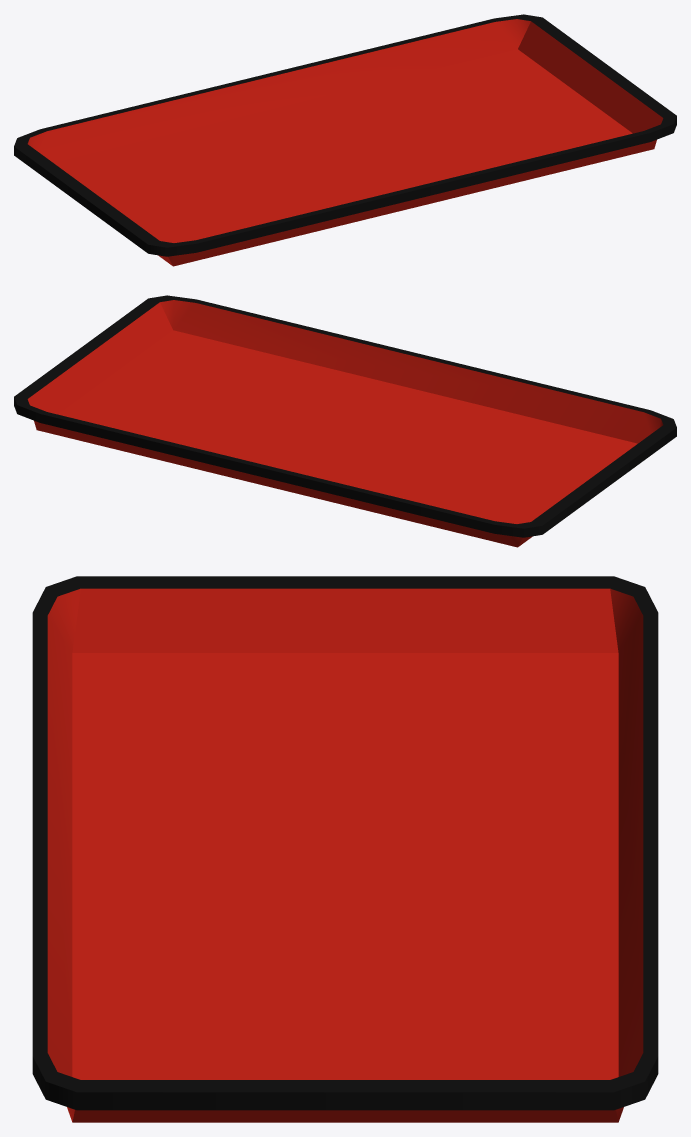
Rendered from khay ban bep Japanese.FBX.
The picture shows the model from 3 angles, top to bottom: view 1: azimuth 30°, elevation 25°; view 2: azimuth 150°, elevation 25°; view 3: azimuth 270°, elevation 25°; orthographic projection. The views are drawn at different scales.
Parts seen in each view (by area): view 1: Cylinder141; view 2: Cylinder141; view 3: Cylinder141.
Part boxes in pixels (x1=…): Cylinder141: x1=14, y1=14, x2=676, y2=266; Cylinder141: x1=14, y1=295, x2=676, y2=547; Cylinder141: x1=32, y1=576, x2=658, y2=1122.
Bounding box in the file's own units: 4.21 × 0.204 × 2.16.
